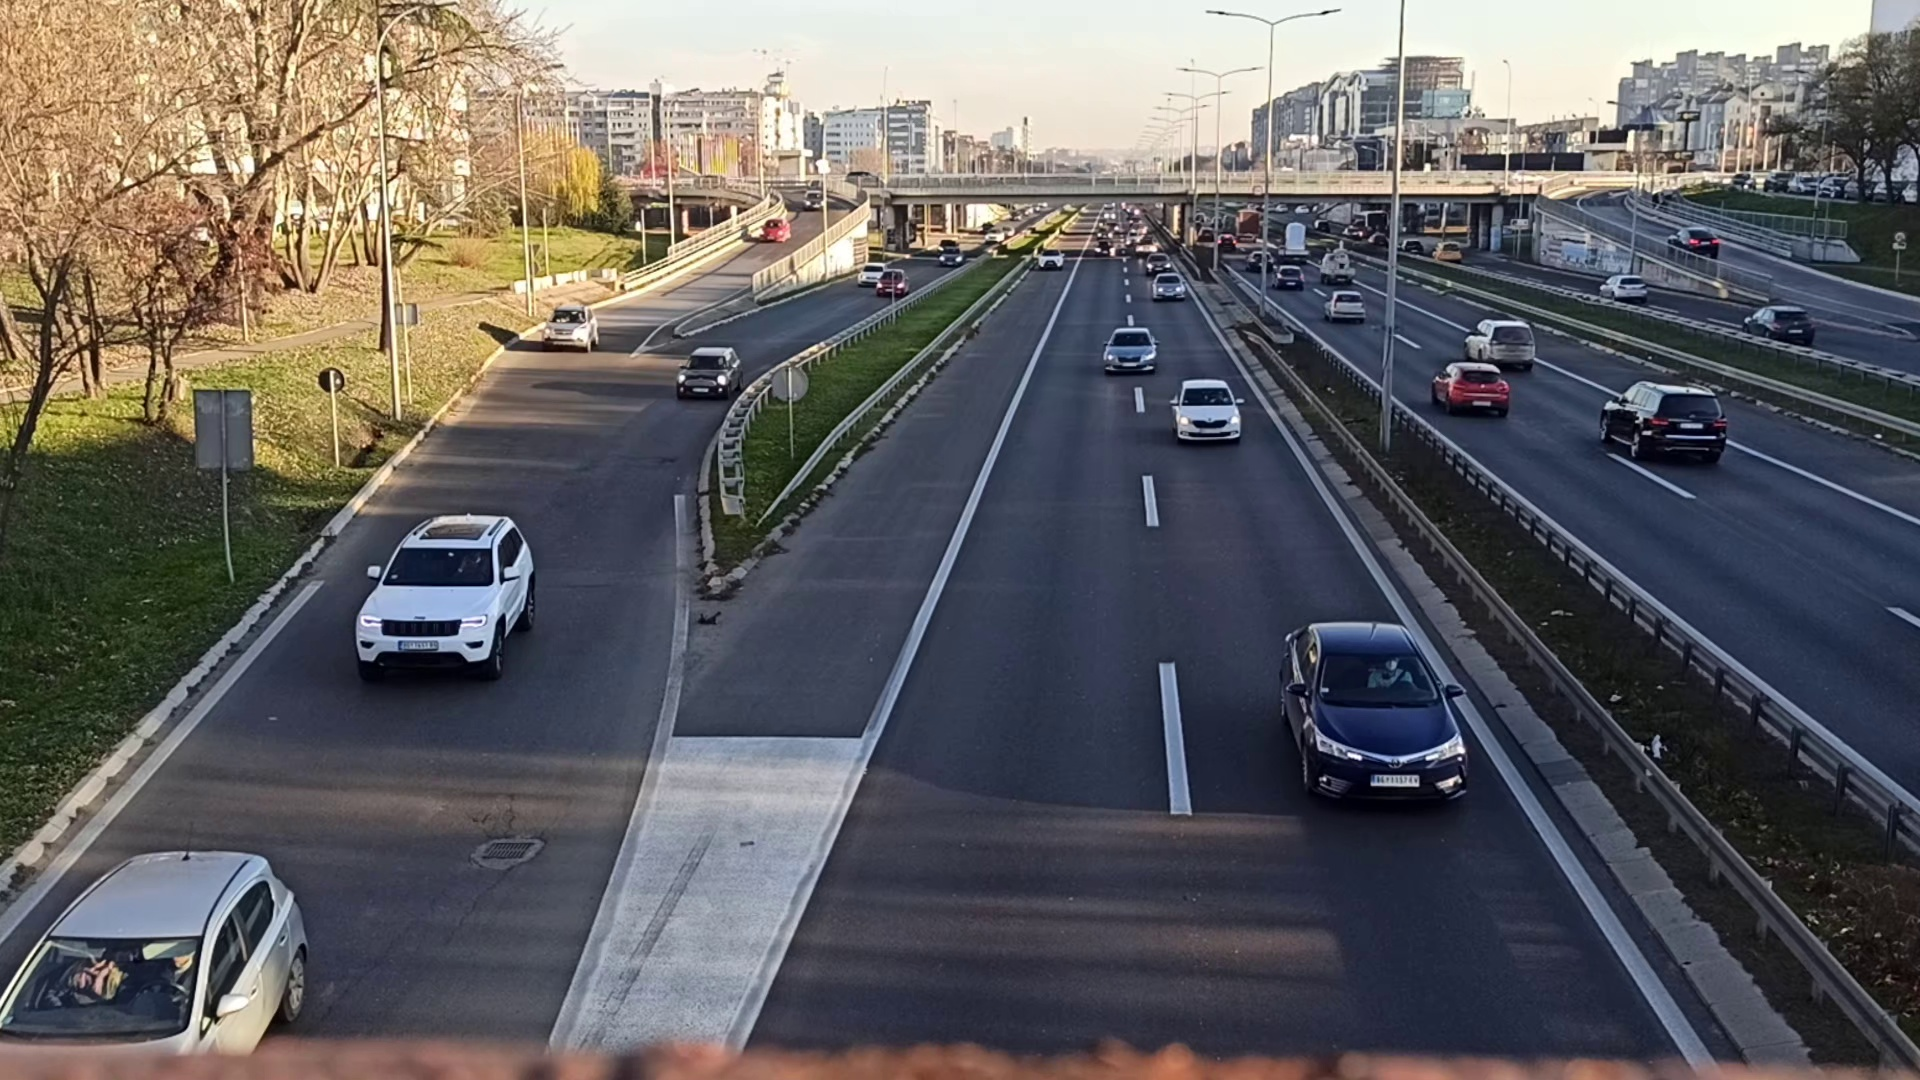car: (1280, 618, 1470, 818), (353, 512, 537, 684), (1600, 378, 1729, 469), (1174, 378, 1242, 444), (1429, 363, 1506, 415), (675, 344, 741, 404), (1466, 316, 1536, 371), (543, 301, 599, 353), (1102, 324, 1158, 376), (1324, 290, 1365, 324)
